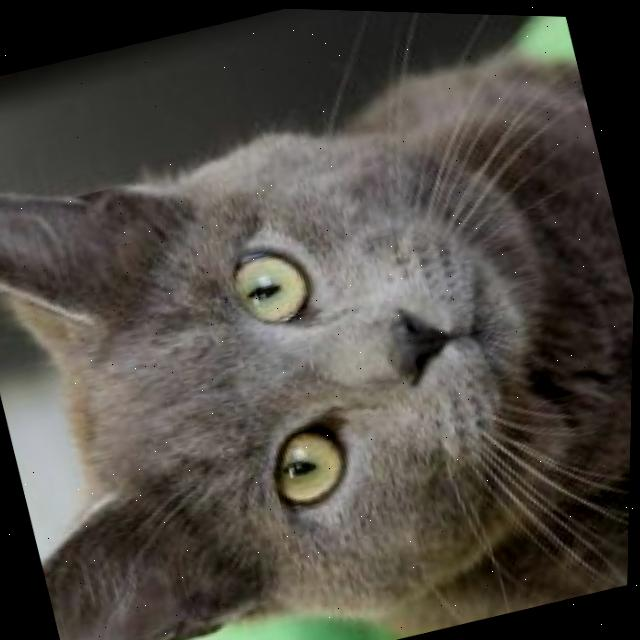Russian Blue: (0, 12, 640, 640)
